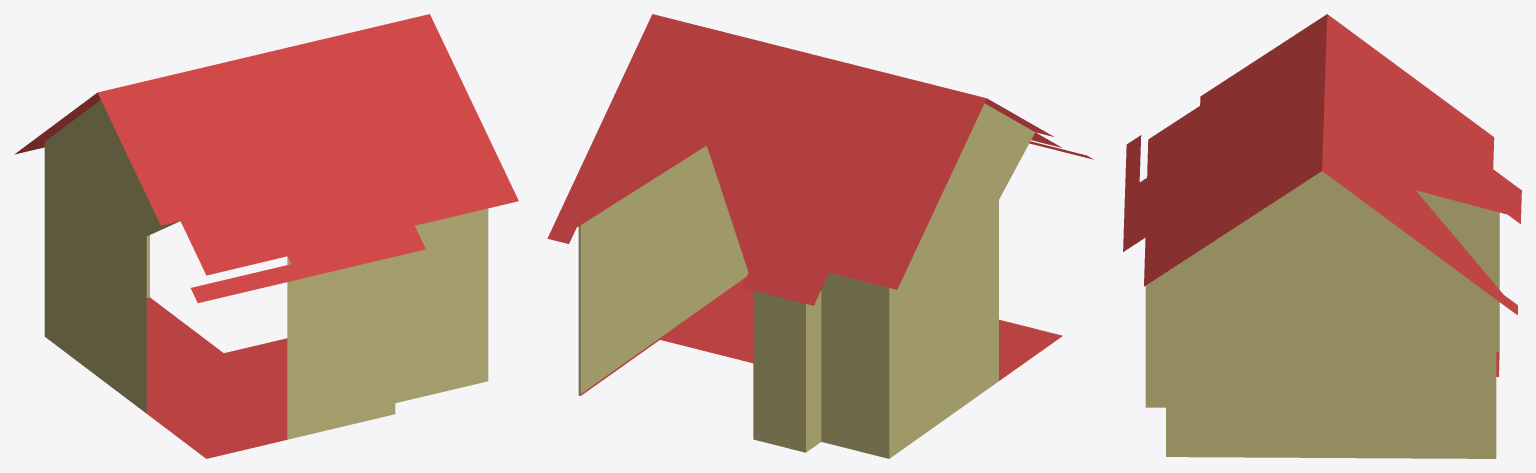
The picture shows the model from 3 angles, left to right: view 1: azimuth 30°, elevation 25°; view 2: azimuth 150°, elevation 25°; view 3: azimuth 270°, elevation 25°; orthographic projection. The views are drawn at different scales.
Bounding box in the file's own units: 12.92 × 13.67 × 11.2.
